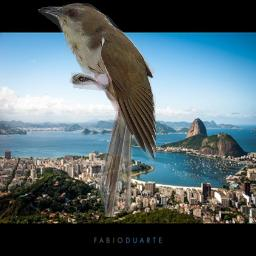Cuckoo: (38, 2, 156, 217)
